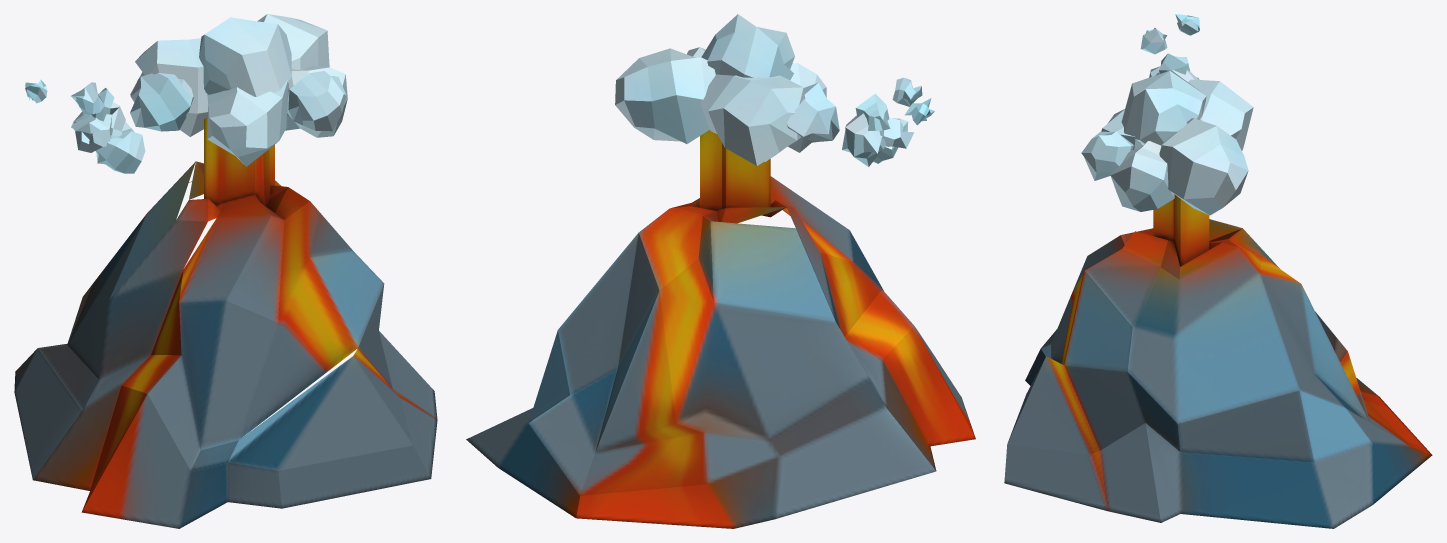
The model's file is volcano.glb.
3 views of the same model, side by side, from view 1: azimuth 30°, elevation 25°; view 2: azimuth 150°, elevation 25°; view 3: azimuth 270°, elevation 25° (orthographic). The views are drawn at different scales.
Parts seen in each view (by area): view 1: Volcano_mesh; view 2: Volcano_mesh; view 3: Volcano_mesh.
Boxes of the visible parts, <box> form: Volcano_mesh: <box>14,14,437,528</box>; Volcano_mesh: <box>466,14,975,528</box>; Volcano_mesh: <box>1004,14,1432,528</box>.
Size of the model in its own units: 14.9 by 14.66 by 15.5.
1 material, 1 textured.
